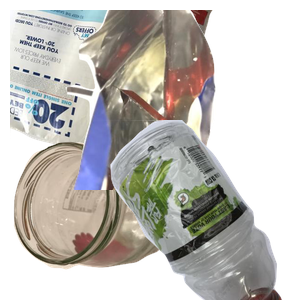glass: (11, 139, 179, 300)
paper: (10, 10, 215, 186)
plastic: (73, 120, 300, 300)
trash: (63, 10, 300, 190)
